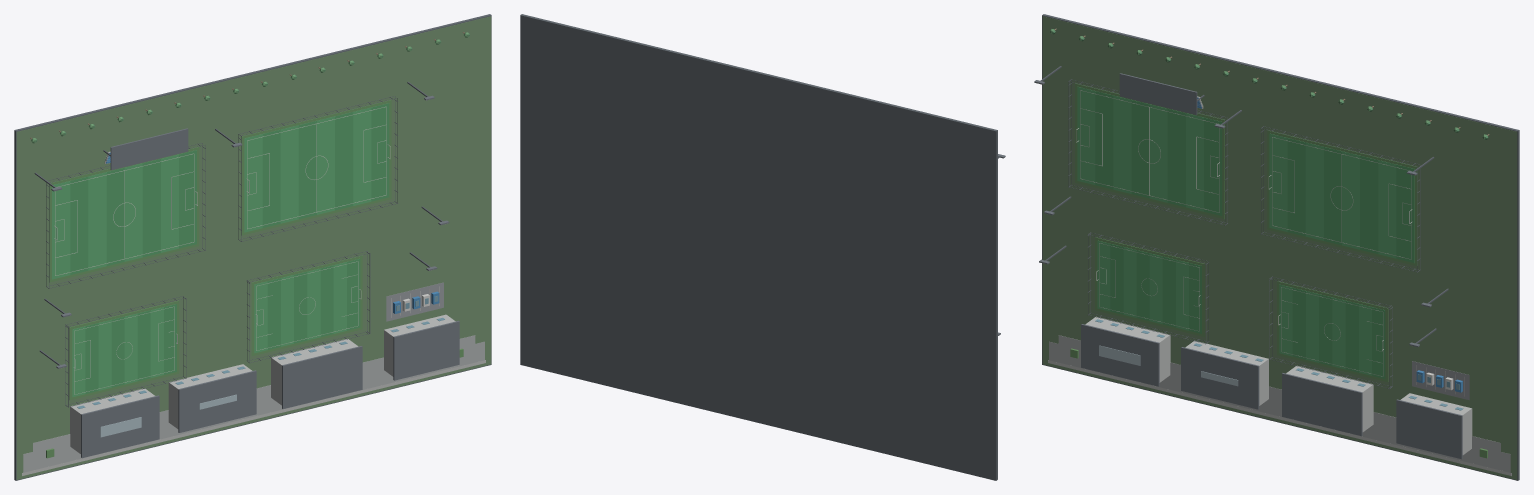
The model's file is training_ground_level_4.glb.
3 views of the same model, side by side, from view 1: azimuth 30°, elevation 25°; view 2: azimuth 150°, elevation 25°; view 3: azimuth 330°, elevation 25° (orthographic).
Parts seen in each view (by area): view 1: base, grass3, grass2, roof, dark, concrete, hedge, paving, lines, track, rooflight, glass; view 2: dark; view 3: base, grass3, grass2, roof, dark, concrete, hedge, paving, lines, track, rooflight, glass.
Boxes of the visible parts, left/top/right/bottom form: base: left=16, top=16, right=491, bottom=479; grass3: left=70, top=103, right=389, bottom=393; grass2: left=52, top=107, right=371, bottom=397; roof: left=51, top=95, right=459, bottom=458; dark: left=14, top=14, right=491, bottom=480; concrete: left=22, top=151, right=485, bottom=475; hedge: left=46, top=99, right=463, bottom=458; paving: left=23, top=335, right=484, bottom=472; lines: left=55, top=106, right=386, bottom=394; track: left=386, top=282, right=443, bottom=321; rooflight: left=100, top=394, right=236, bottom=437; glass: left=77, top=296, right=444, bottom=408; dark: left=520, top=14, right=999, bottom=480; base: left=1042, top=16, right=1517, bottom=479; grass3: left=1095, top=91, right=1414, bottom=378; grass2: left=1077, top=87, right=1396, bottom=375; roof: left=1034, top=73, right=1462, bottom=459; dark: left=1040, top=14, right=1519, bottom=480; concrete: left=1048, top=96, right=1511, bottom=475; hedge: left=1070, top=83, right=1487, bottom=458; paving: left=1049, top=335, right=1510, bottom=472; lines: left=1080, top=90, right=1411, bottom=376; track: left=1412, top=361, right=1469, bottom=400; rooflight: left=1099, top=345, right=1238, bottom=386; glass: left=1095, top=319, right=1463, bottom=410.
Bounding box in the file's own units: 198 × 139 × 17.62.
